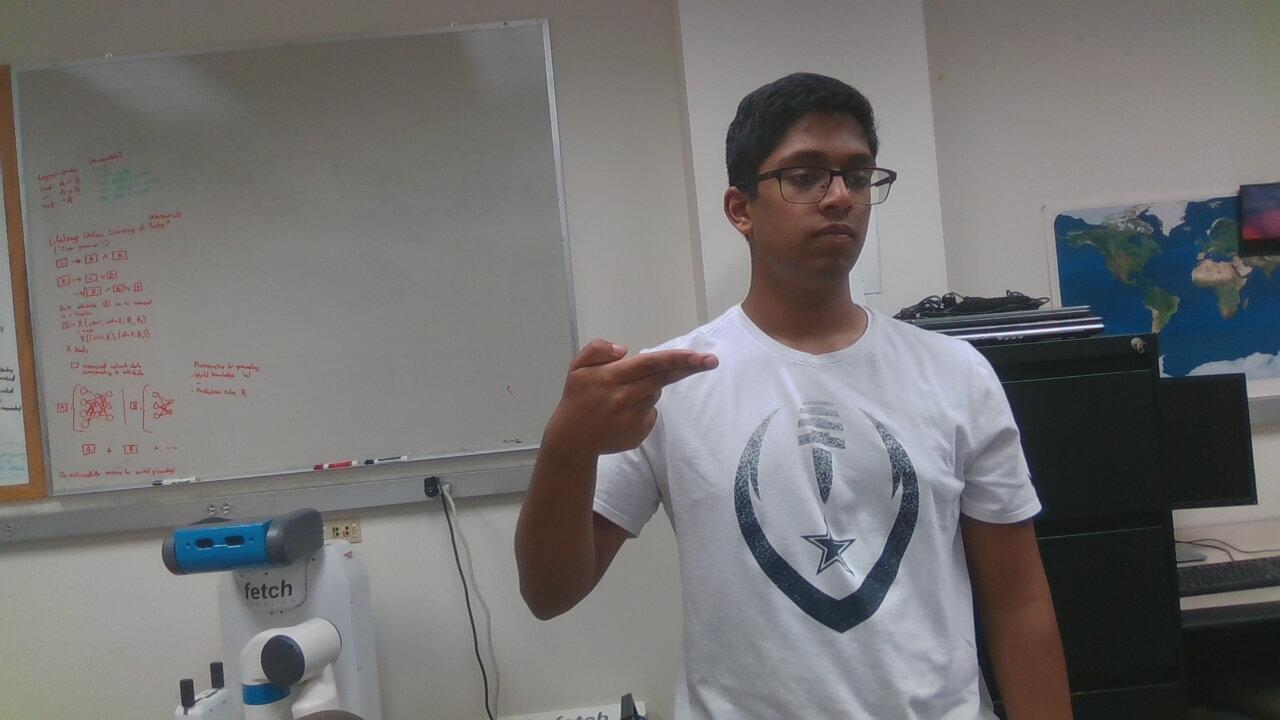hands: (534, 309, 720, 485)
